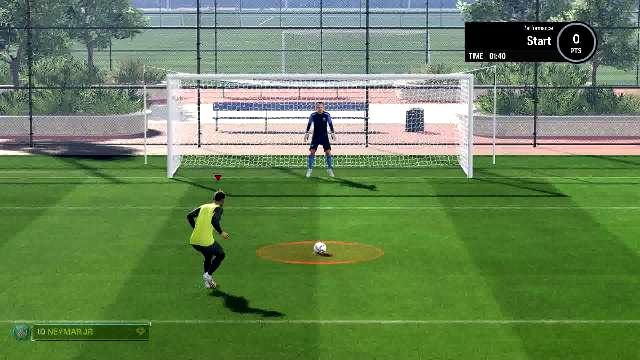bottom-left: (174, 130, 268, 178)
bottom-right: (369, 130, 468, 176)
center-down: (270, 132, 366, 176)
center-up: (271, 80, 369, 132)
circle: (258, 239, 384, 265)
football: (312, 242, 328, 254), (314, 243, 328, 255)
goalkeeper: (303, 100, 343, 180)
player: (184, 187, 232, 295)
top-left: (172, 82, 268, 132)
top-right: (368, 84, 468, 132)
